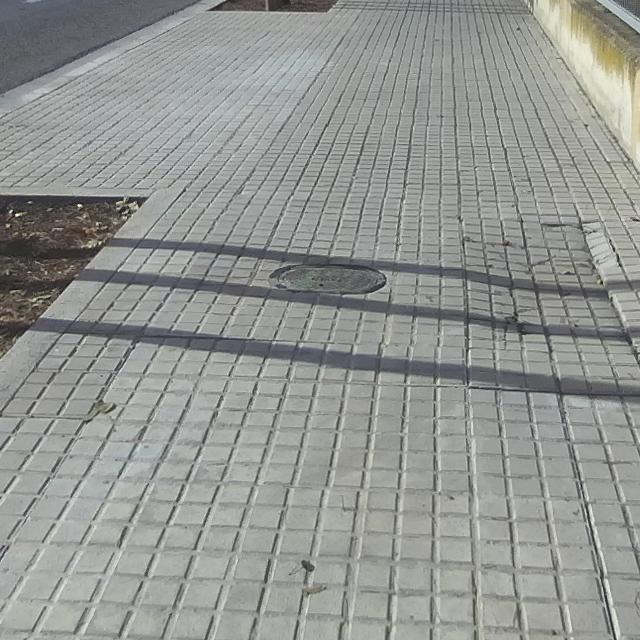calcada_quebrada: (495, 305, 539, 351), (537, 217, 602, 236), (530, 248, 564, 273), (606, 237, 630, 268)
